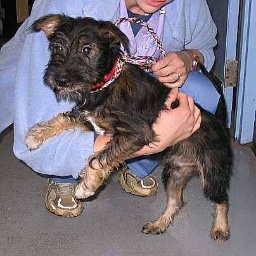dog: (21, 13, 234, 242)
